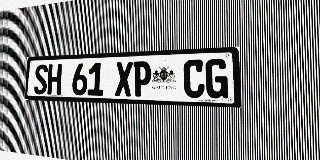1: (87, 63, 104, 96)
6: (72, 63, 88, 95)
C: (183, 59, 205, 98)
G: (205, 58, 228, 99)
H: (47, 64, 62, 95)
P: (133, 61, 151, 97)
S: (34, 64, 48, 95)
X: (115, 62, 133, 96)
